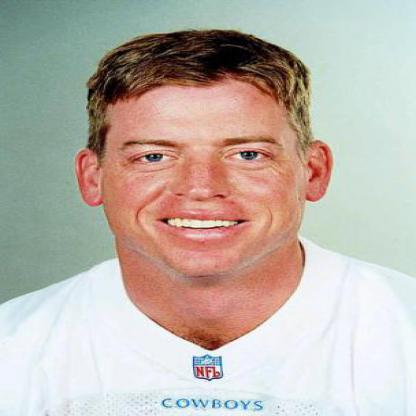face: (97, 35, 310, 280)
